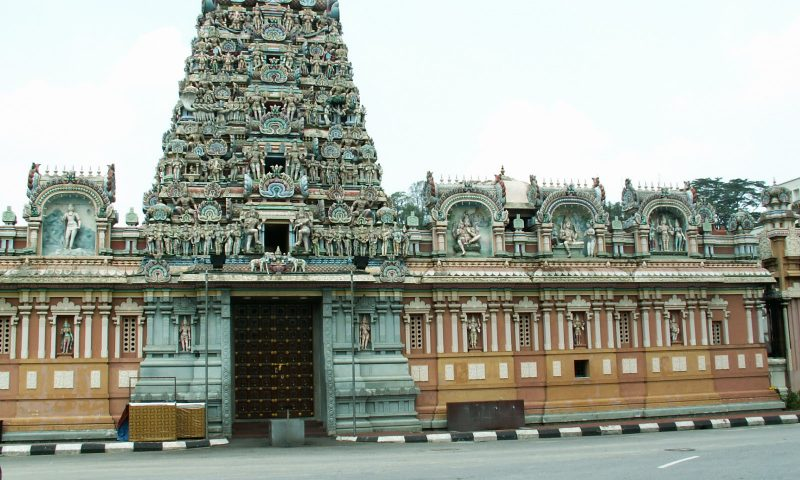Hindu Temple: (3, 5, 794, 413)
